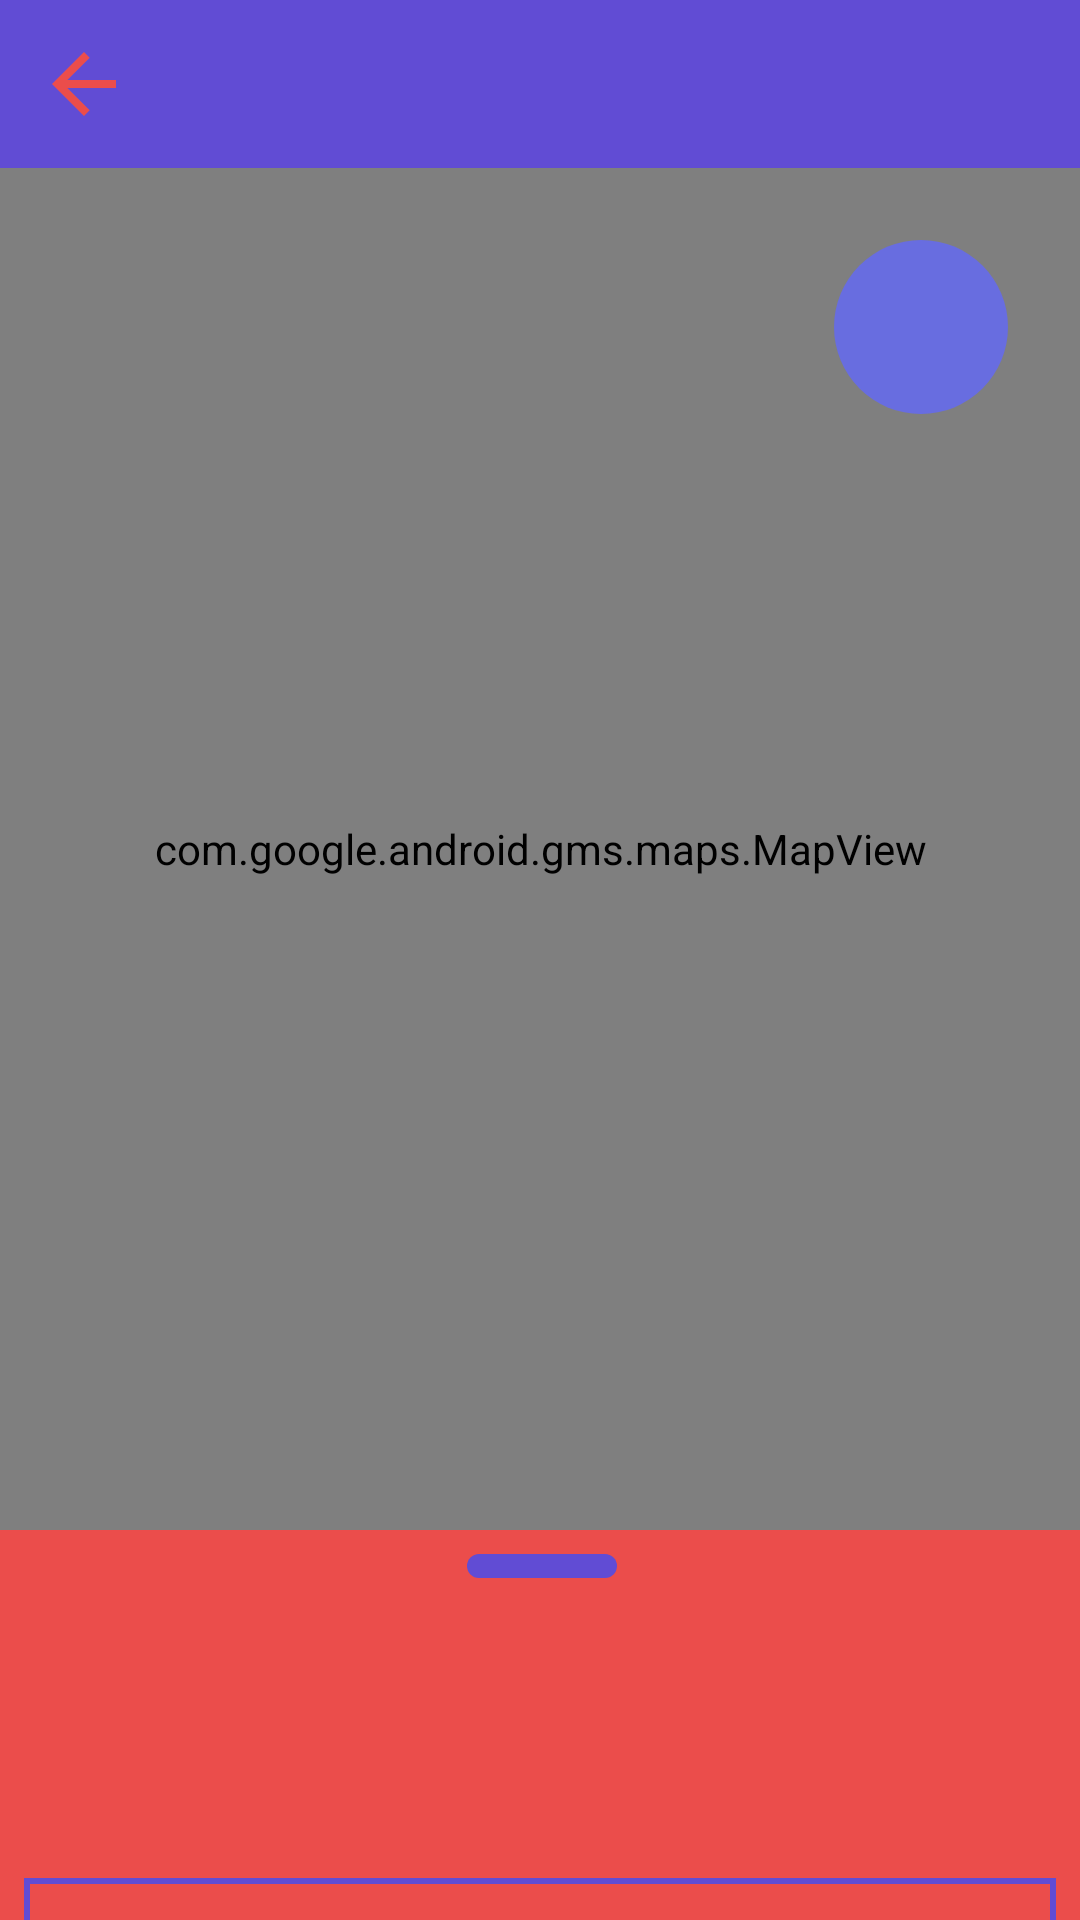

Icons on this 1080px x 1920px Android screen, each with the point to tap as point (x, y):
arrow back: point (84, 84)
